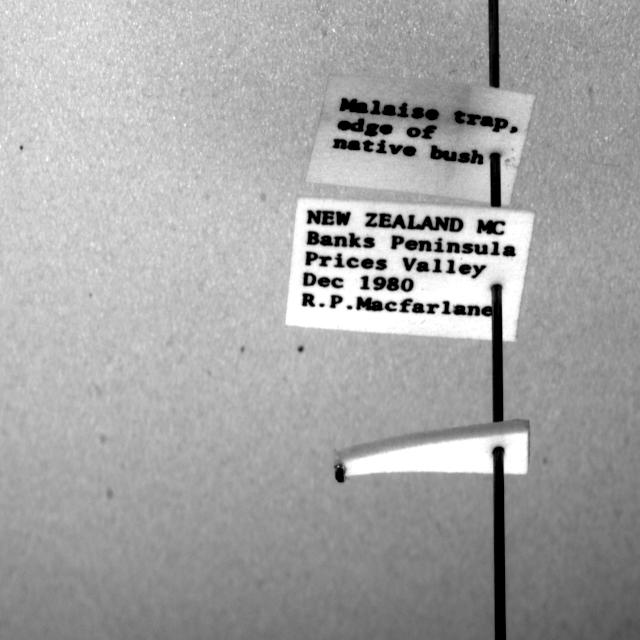typed_label: (286, 199, 534, 341), (306, 75, 535, 206)
